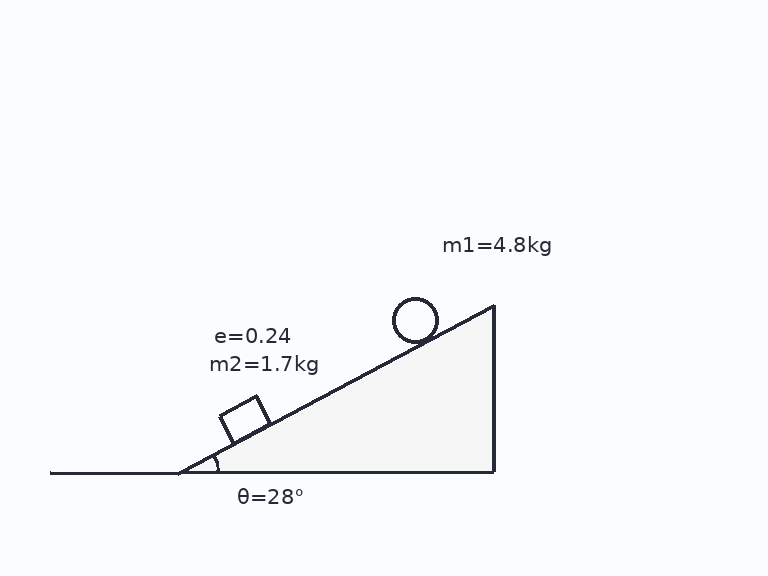ball: (390, 295, 440, 345)
block: (217, 394, 272, 445)
ramp: (176, 302, 495, 474)
